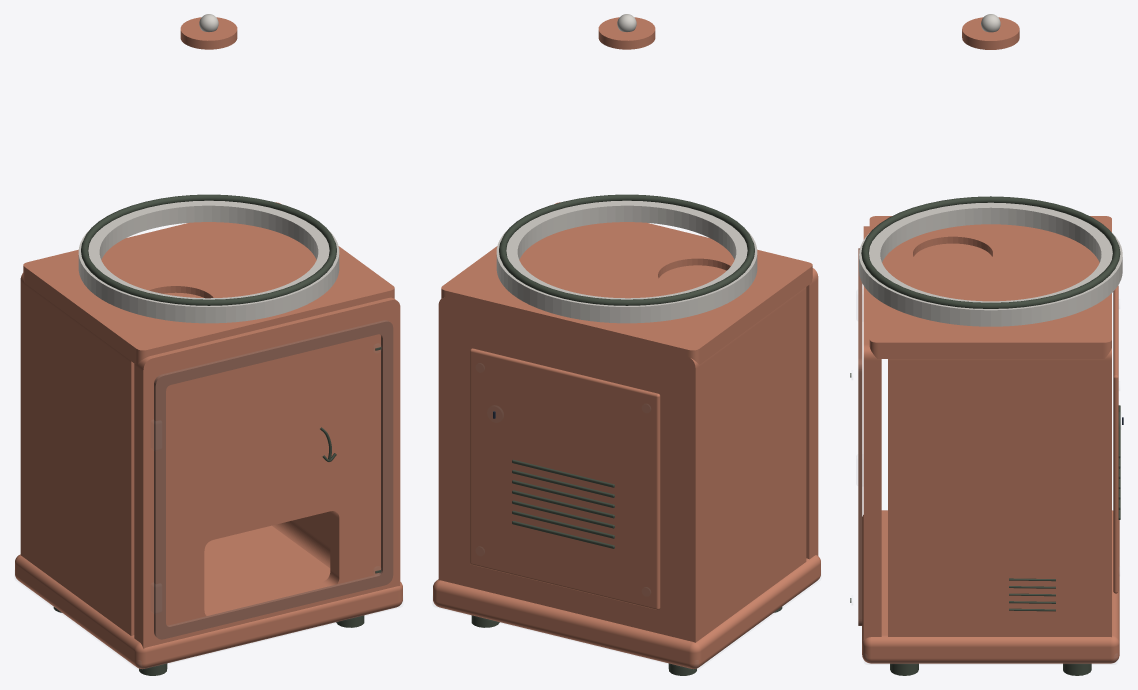
The model's file is machine-friends-study.glb.
3 renders of one model, left to right at view 1: azimuth 30°, elevation 25°; view 2: azimuth 150°, elevation 25°; view 3: azimuth 270°, elevation 25°, orthographic.
Visible parts, largest first — view 1: CabinetShell_Batch0; view 2: CabinetShell_Batch0; view 3: CabinetShell_Batch0.
Boxes of the visible parts, x1=… form: CabinetShell_Batch0: x1=15, y1=14, x2=402, y2=675; CabinetShell_Batch0: x1=433, y1=14, x2=820, y2=675; CabinetShell_Batch0: x1=850, y1=14, x2=1123, y2=675.
Size of what is drawn, in the model's own units: 0.206 by 0.4415 by 0.1805.
